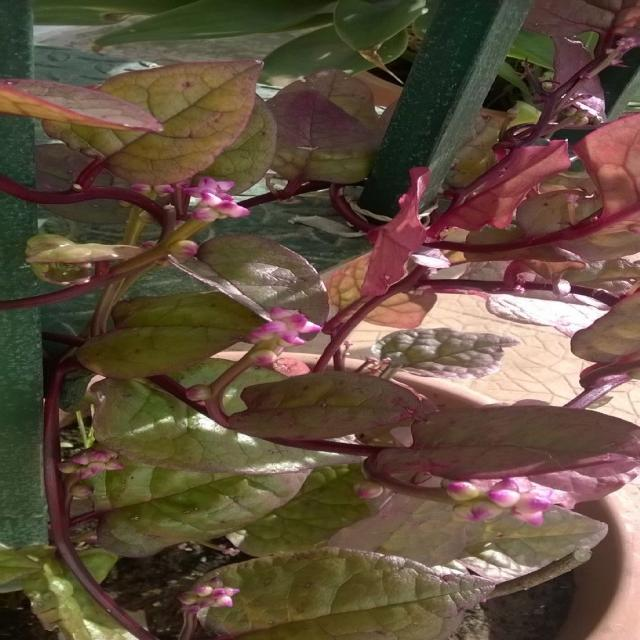Medicinal-Basale: (0, 62, 640, 634)
